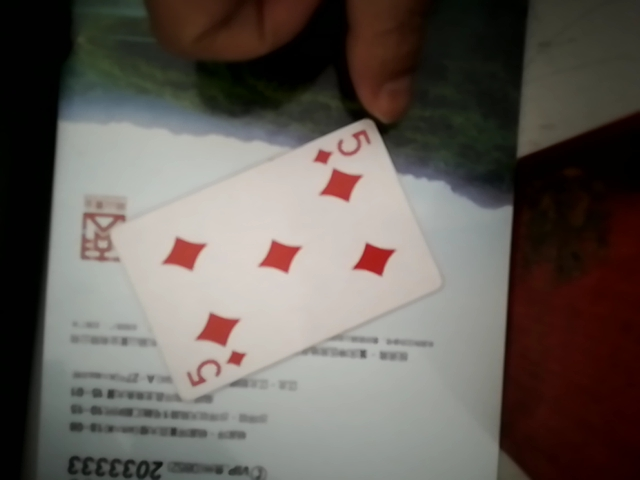fk 5: (91, 119, 432, 393)
